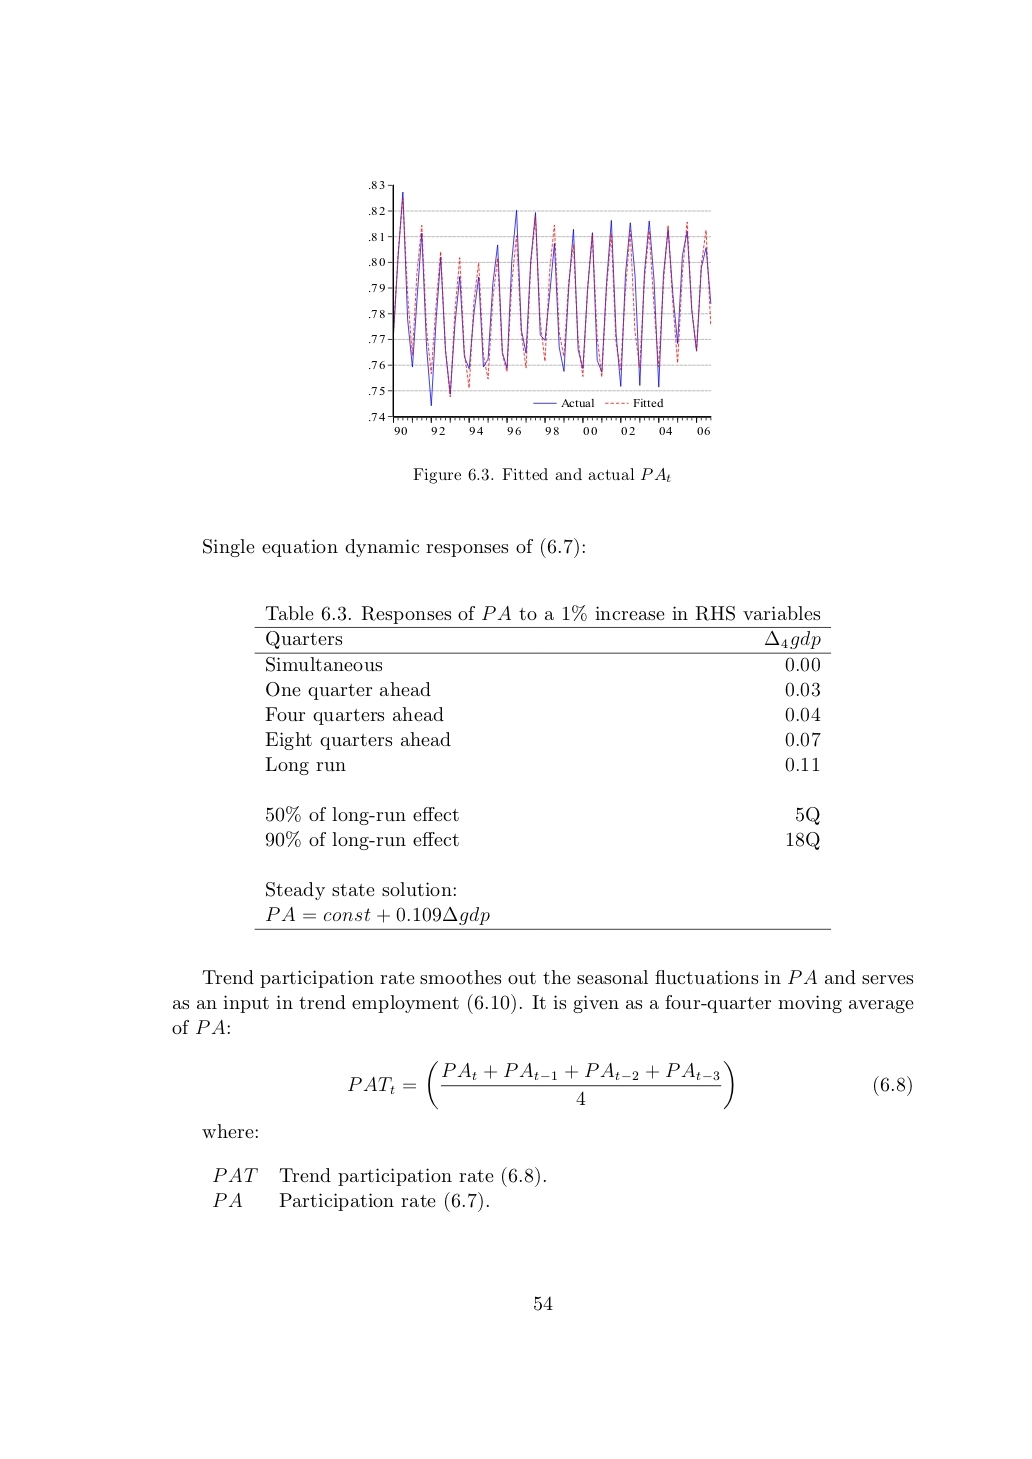Table: (254, 605, 831, 929)
figure: (369, 181, 711, 435)
formula: (348, 1060, 911, 1110)
